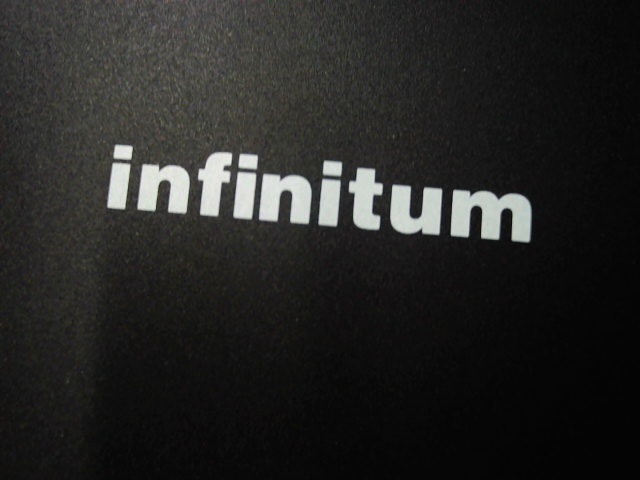BK_infinitum: (100, 136, 538, 256)
